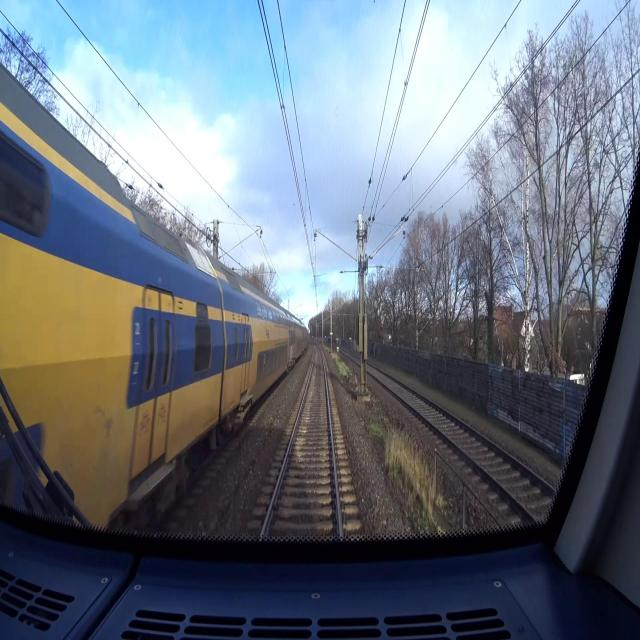rail-track: (366, 364, 552, 519), (264, 346, 339, 539)
